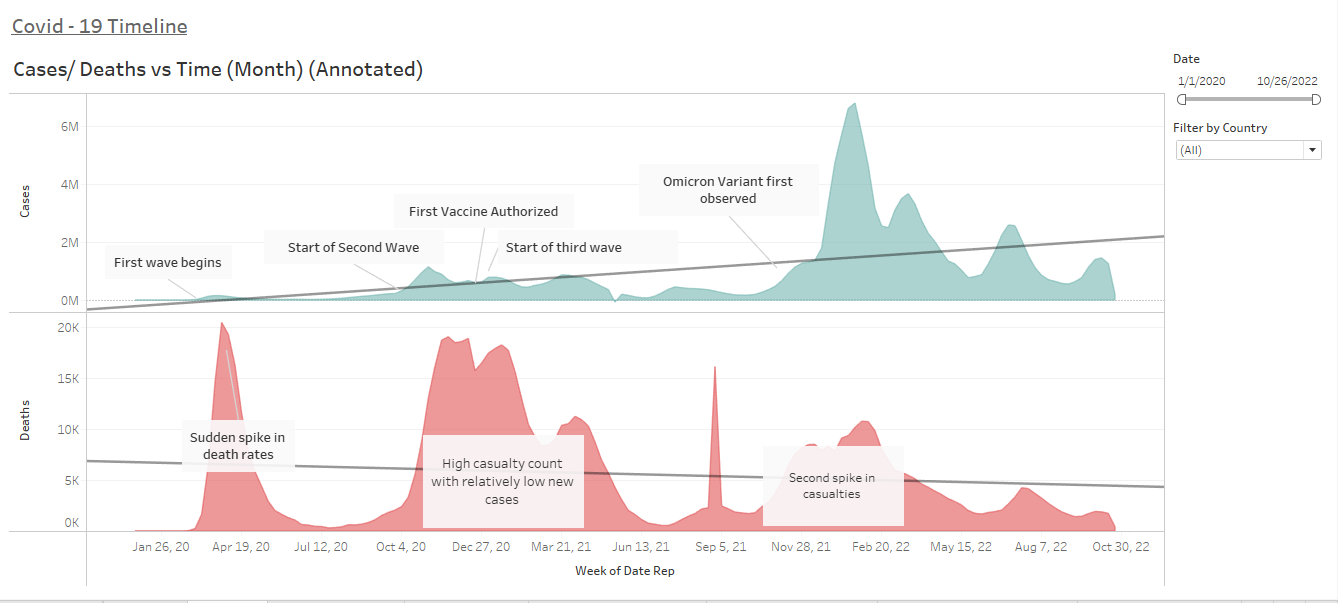

This screenshot's page, from the dashboard's own definition file:
{"tool":"tableau","page":{"name":"Timeline","canvas":[1000,1000],"units":"permille","ordinal":8},"visuals":[{"type":"text","box":[6,13.3,988.1,68.3]},{"type":"worksheet","title":"Cases/ Deaths vs Time (Month) (Annotated)","mark":"Area","rows":["cases","deaths"],"cols":["dateRep"],"box":[6,81.6,868.7,905.1]},{"type":"filter","title":"Cases/ Deaths vs Time (Month) (Annotated)","param":"[federated.0xkkdh10fpz2wn14k5fxt0op2lj3].[none:dateRep:qk]","box":[874.6,81.6,119.4,114.6]},{"type":"filter","title":"Cases/ Deaths vs Time (Month) (Annotated)","param":"[federated.0xkkdh10fpz2wn14k5fxt0op2lj3].[none:countriesAndTerritories:nk]","box":[874.6,196.2,119.4,156.2]}]}

Visuals, with their boxes on the dashboard's canvas, which has no fixed pixel size, in thousandths of its width and height (x1, y1, x2, y2). These are canvas units, not pixel positions in the 1338x603 screenshot, which may show the page scaled, cropped or inside an application window:
text: BBox(6, 13, 994, 82)
"Cases/ Deaths vs Time (Month) (Annotated)" worksheet (Area marks): BBox(6, 82, 875, 987)
"Cases/ Deaths vs Time (Month) (Annotated)" filter: BBox(875, 82, 994, 196)
"Cases/ Deaths vs Time (Month) (Annotated)" filter: BBox(875, 196, 994, 352)
